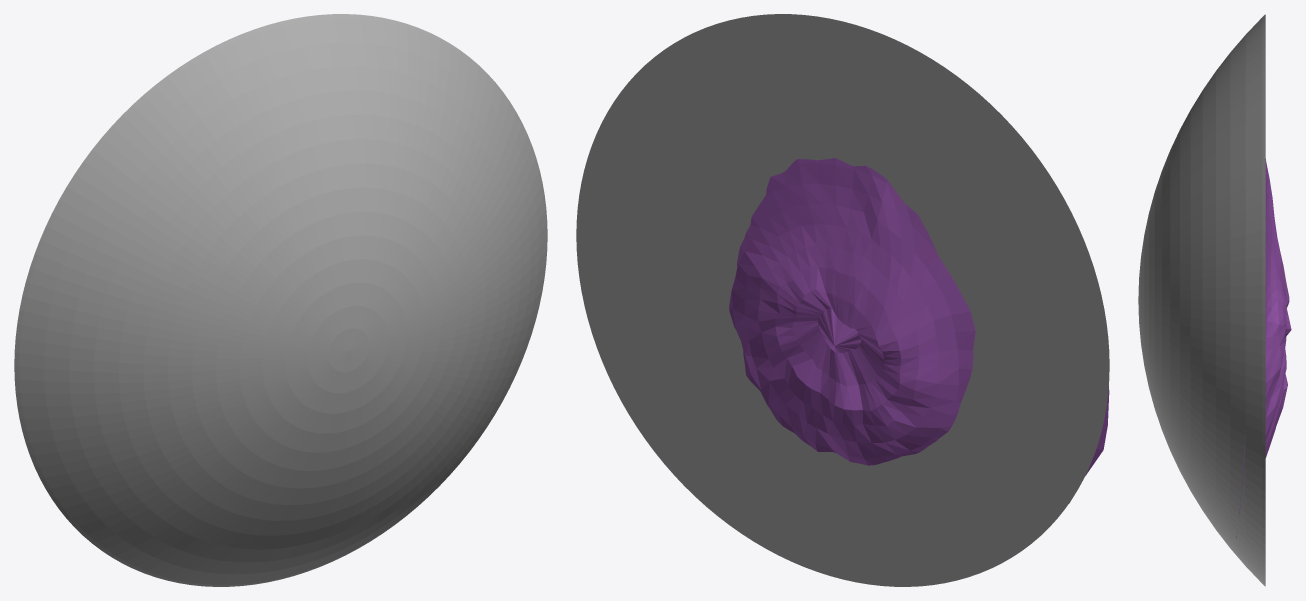
File: G09_A0_ALIGNED_GT.glb
The picture shows the model from 3 angles, left to right: view 1: azimuth 30°, elevation 25°; view 2: azimuth 150°, elevation 25°; view 3: azimuth 270°, elevation 25°; orthographic projection. The views are drawn at different scales.
Parts seen in each view (by area): view 1: Independent_GT; view 2: Independent_GT, A0; view 3: Independent_GT, A0.
Part boxes in pixels (x1,y1,x2,y2): Independent_GT: (14, 14, 547, 586); Independent_GT: (576, 14, 1109, 586); A0: (729, 158, 1109, 503); Independent_GT: (1138, 14, 1265, 586); A0: (1236, 159, 1291, 537).
Bounding box in the file's own units: 0.0045 × 0.0045 × 0.0012.
